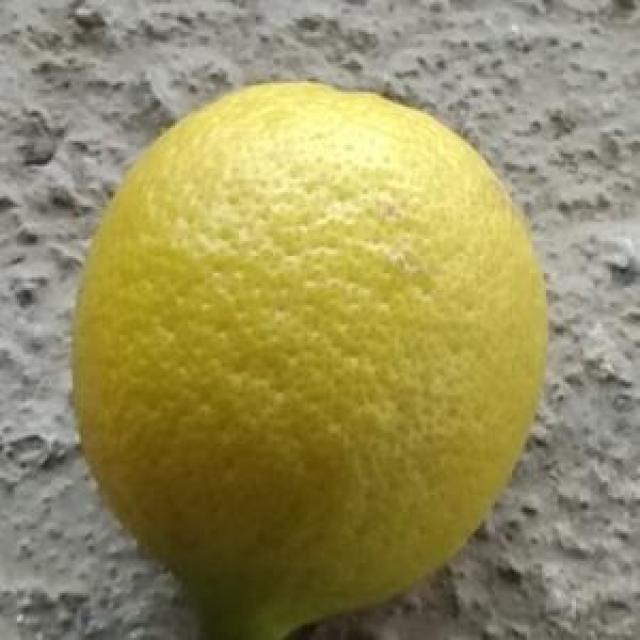lemon: (67, 79, 543, 640)
